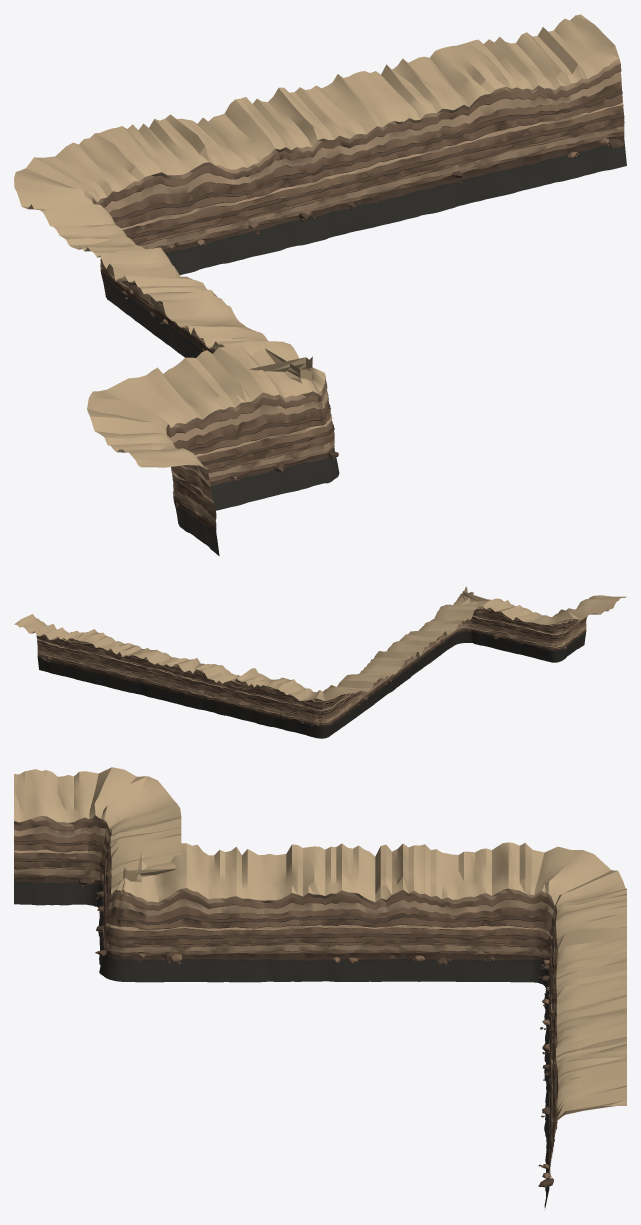
Rendered from borda-quadrante.glb.
3 renders of one model, top to bottom at view 1: azimuth 30°, elevation 25°; view 2: azimuth 150°, elevation 25°; view 3: azimuth 270°, elevation 25°, orthographic. The views are drawn at different scales.
Visible parts, largest first — view 1: borda-quadrante; view 2: borda-quadrante; view 3: borda-quadrante.
Part boxes in pixels (box(x1,y1,x2,y2)): borda-quadrante: box(14, 14, 626, 556); borda-quadrante: box(14, 586, 626, 738); borda-quadrante: box(14, 767, 626, 1210).
Size of the model in its own units: 1590 by 229 by 1210.
